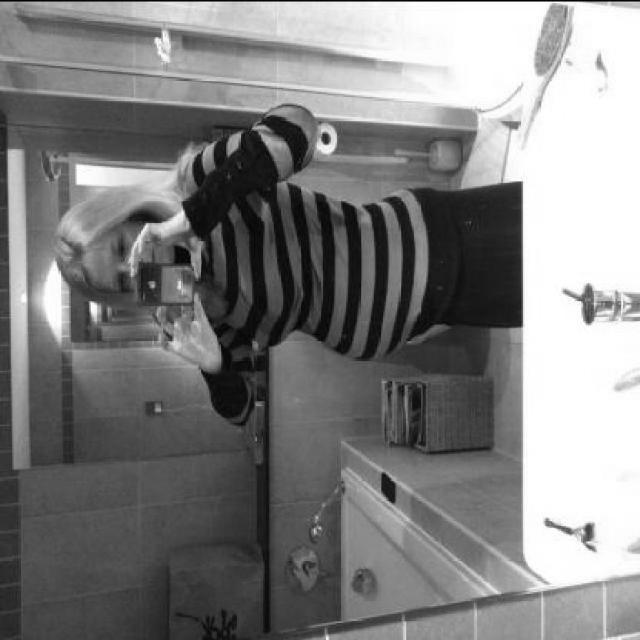fake: (136, 263, 196, 306)
